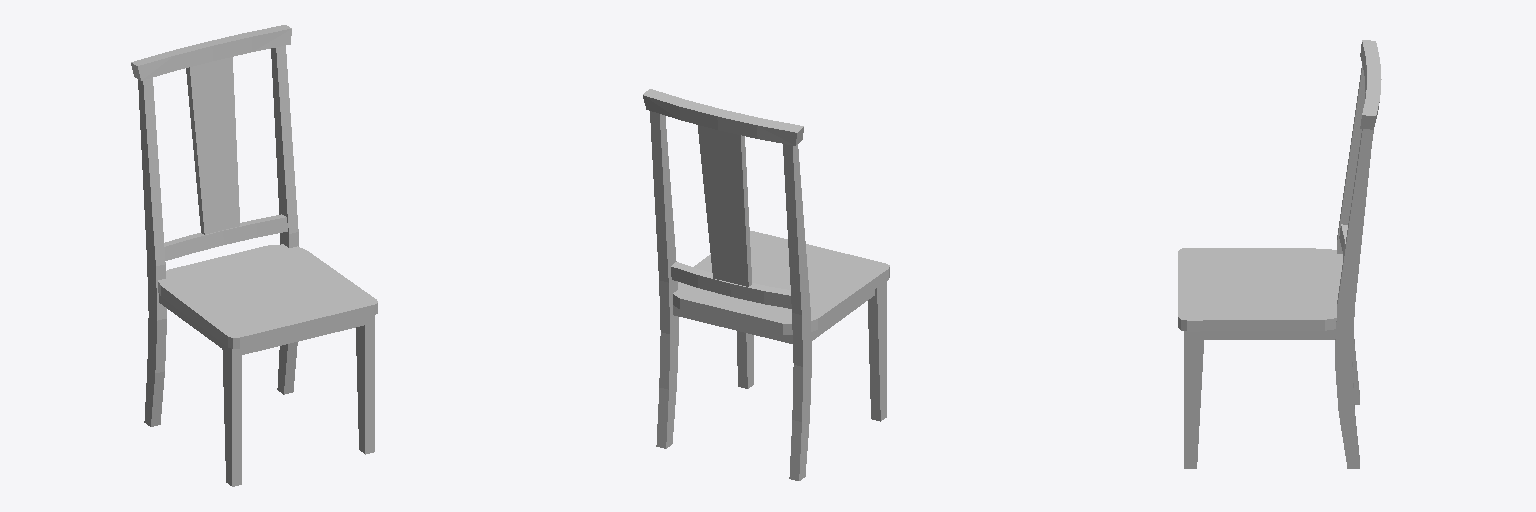
File: chair.obj
3 views of the same model, side by side, from view 1: azimuth 30°, elevation 25°; view 2: azimuth 150°, elevation 25°; view 3: azimuth 270°, elevation 25° (orthographic).
Visible parts, largest first — view 1: chair_01; view 2: chair_01; view 3: chair_01.
Part boxes in pixels (x1,y1,x2,y2): chair_01: (131,25,377,486); chair_01: (643,89,889,480); chair_01: (1178,40,1381,468).
Size of the model in its own units: 0.4005 by 0.8842 by 0.4554.